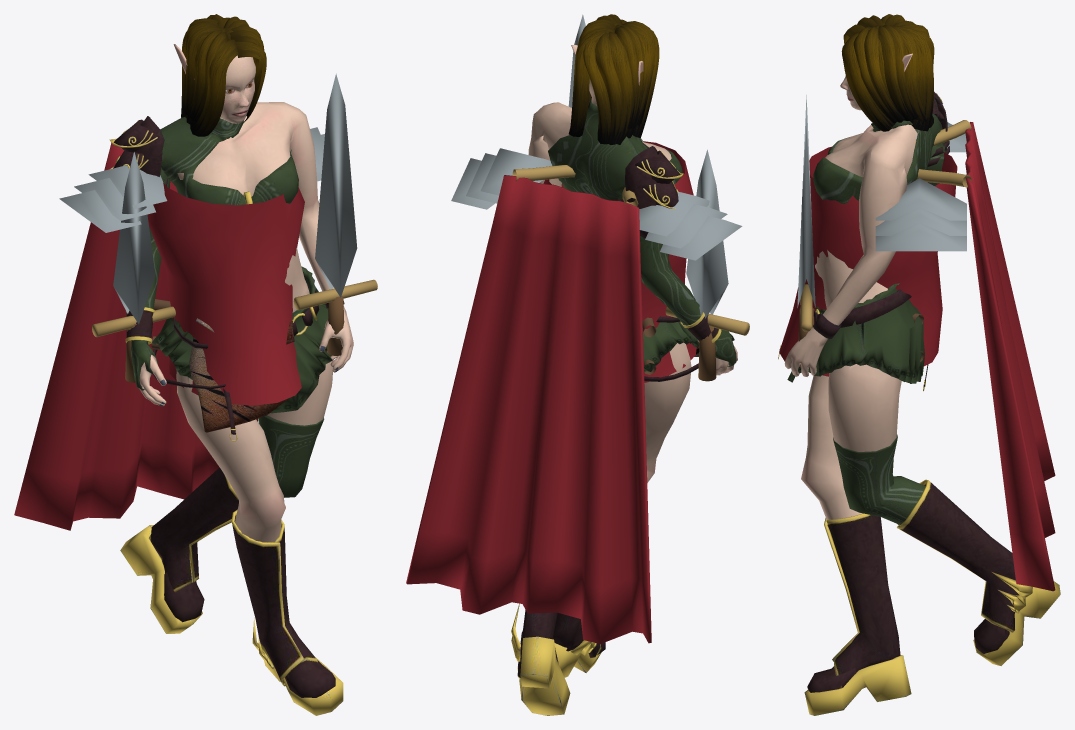
File: actor-arythea.glb
3 renders of one model, left to right at view 1: azimuth 30°, elevation 25°; view 2: azimuth 150°, elevation 25°; view 3: azimuth 270°, elevation 25°, orthographic. The views are drawn at different scales.
Parts seen in each view (by area): view 1: DarkElf · posed; view 2: DarkElf · posed; view 3: DarkElf · posed.
Part boxes in pixels (left/top/right/bottom): DarkElf · posed: left=14, top=14, right=377, bottom=715; DarkElf · posed: left=406, top=14, right=749, bottom=715; DarkElf · posed: left=778, top=14, right=1060, bottom=715.
Bounding box in the file's own units: 0.7874 × 2 × 0.7726.
8 materials, 3 textured.
